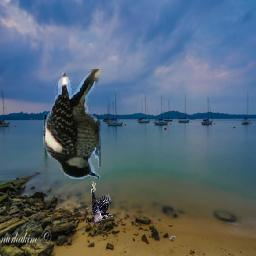Woodpecker: (43, 69, 101, 179), (85, 181, 113, 225)
